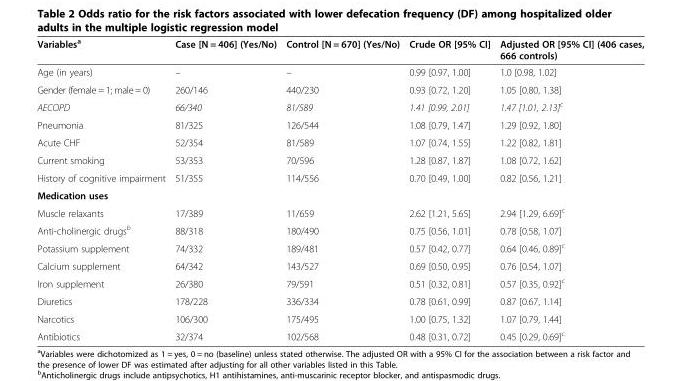table: (36, 36, 643, 341)
table column: (494, 36, 643, 341), (36, 36, 169, 341), (280, 36, 403, 341), (169, 36, 280, 341), (403, 36, 494, 341)
table column header: (36, 36, 643, 63)
table projected row header: (36, 186, 643, 203)
table row: (36, 36, 643, 63), (36, 273, 643, 292), (36, 97, 643, 115), (36, 115, 643, 133), (36, 133, 643, 151), (36, 168, 643, 186), (36, 220, 643, 238), (36, 238, 643, 256), (36, 63, 643, 80), (36, 80, 643, 97), (36, 151, 643, 168), (36, 186, 643, 203), (36, 203, 643, 220), (36, 256, 643, 273), (36, 292, 643, 309), (36, 309, 643, 326), (36, 326, 643, 341)
